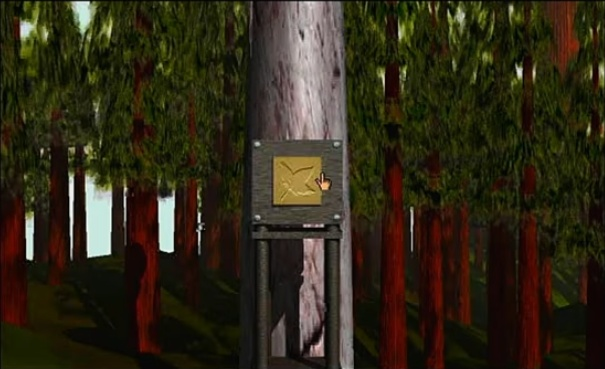Pointer: (311, 170, 335, 193)
